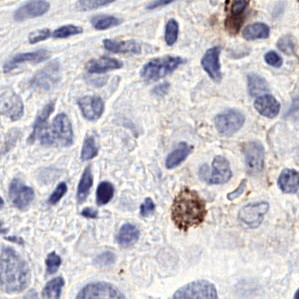Lymphocyte: (169, 188, 209, 230)
